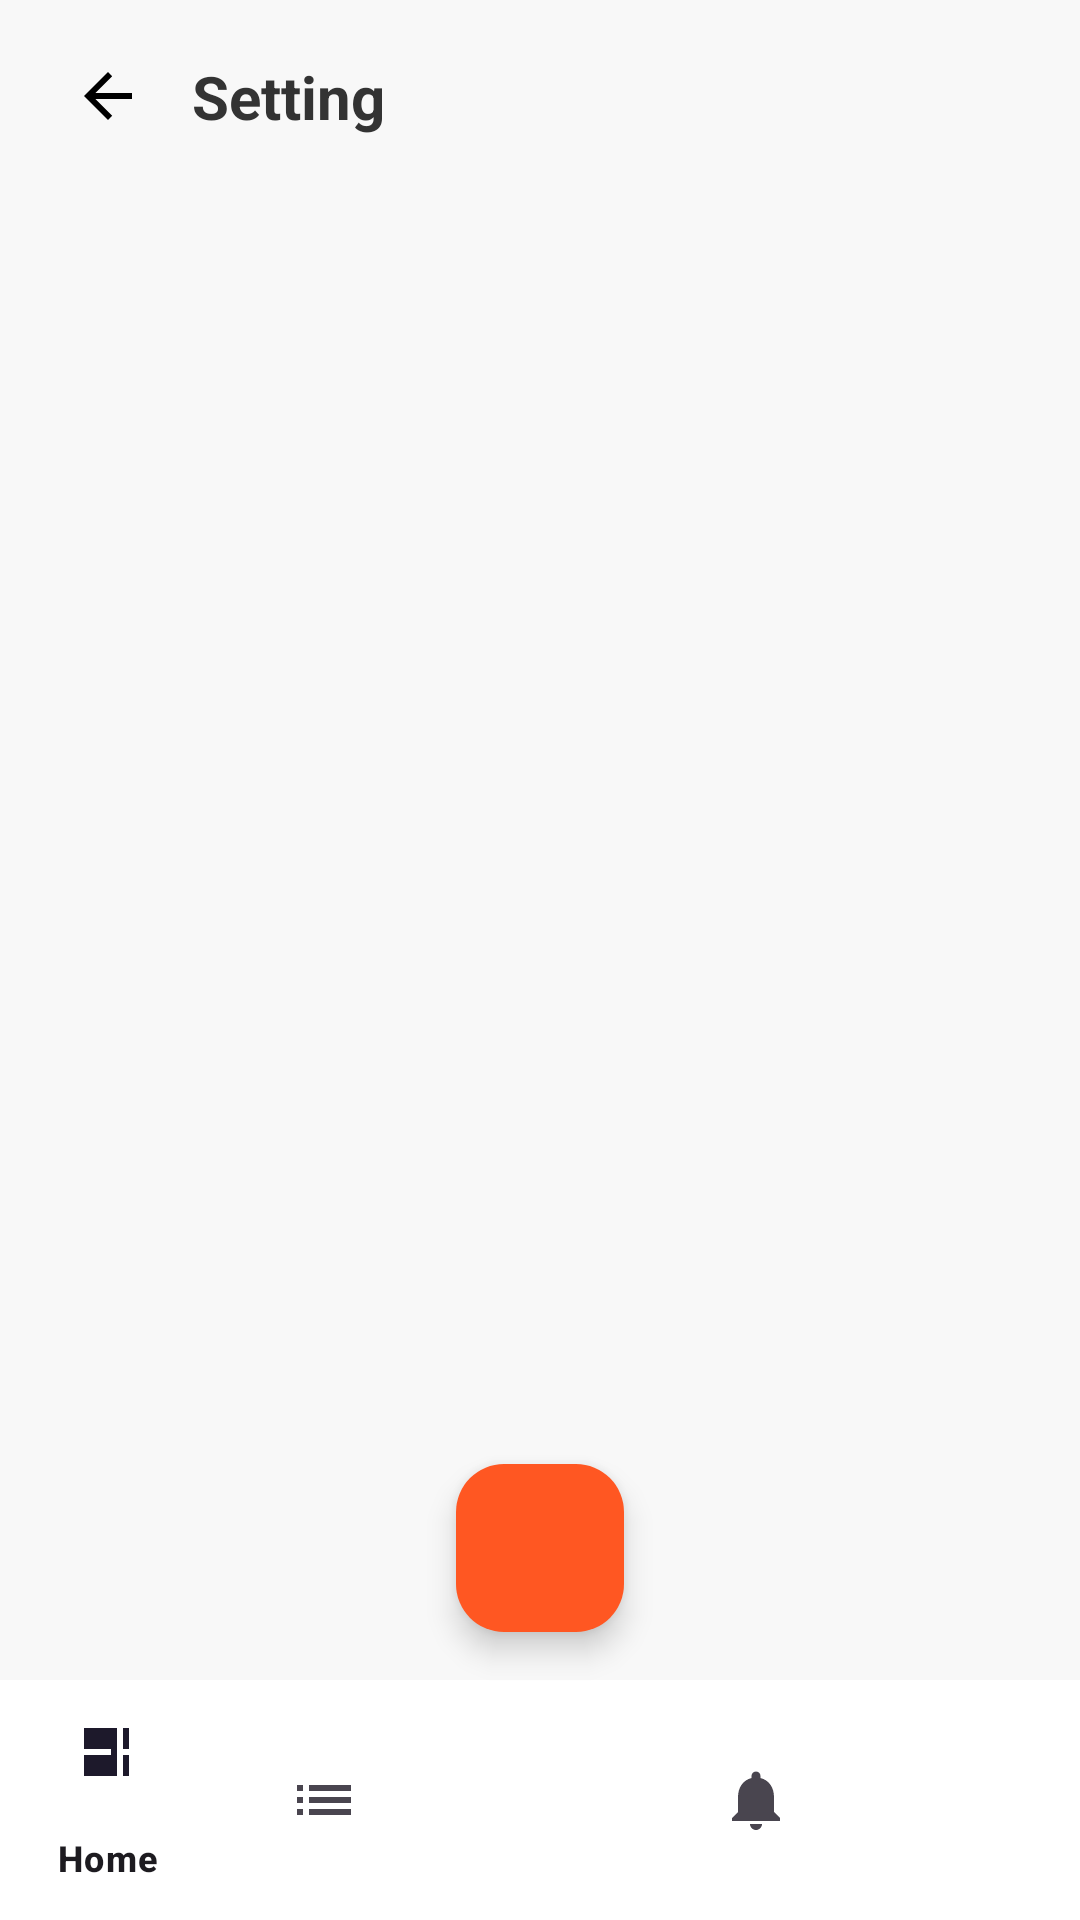

Screen size 1080x1920. Icon name, then its center in pixels as point (x, y):
Back button: point (108, 96)
